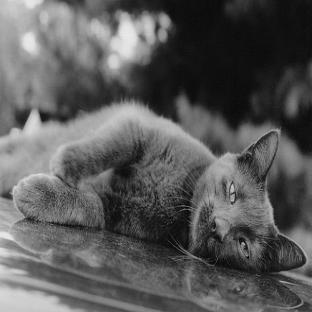Animal: (1, 100, 306, 272)
